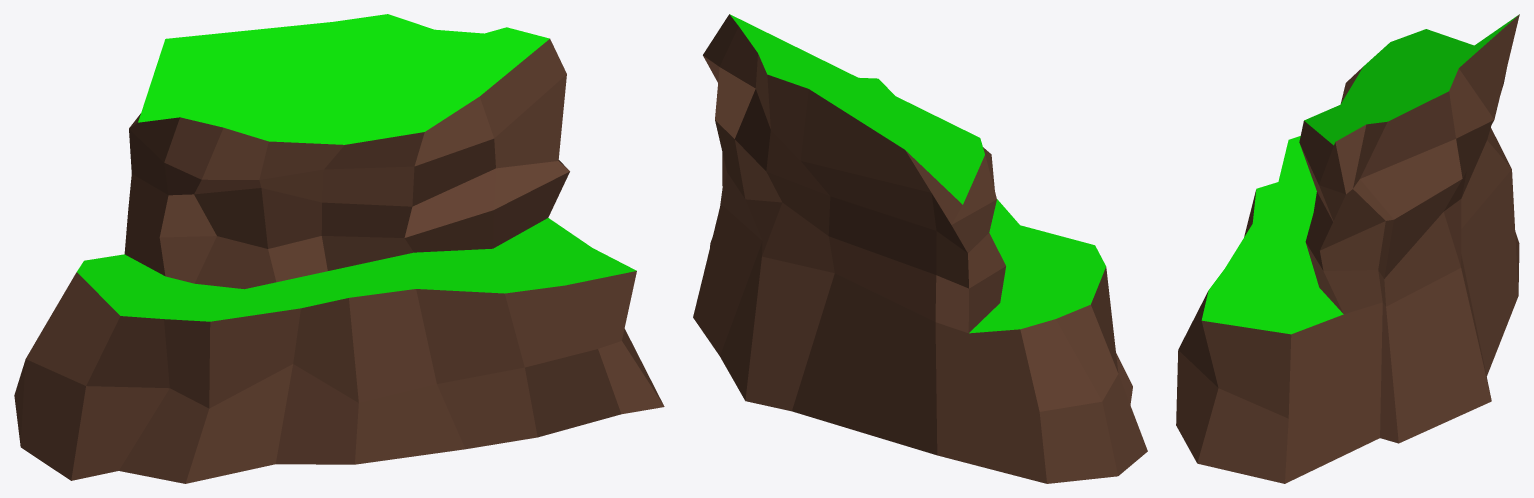
The model's file is Cliff2.fbx.
3 renders of one model, left to right at view 1: azimuth 30°, elevation 25°; view 2: azimuth 150°, elevation 25°; view 3: azimuth 270°, elevation 25°, orthographic. The views are drawn at different scales.
Parts seen in each view (by area): view 1: Plane; view 2: Plane; view 3: Plane.
Boxes of the visible parts, box(x1,y1,x2,y2) form: Plane: box(14, 14, 664, 483); Plane: box(693, 14, 1147, 483); Plane: box(1176, 14, 1519, 483).
Bounding box in the file's own units: 196 × 125 × 120.
